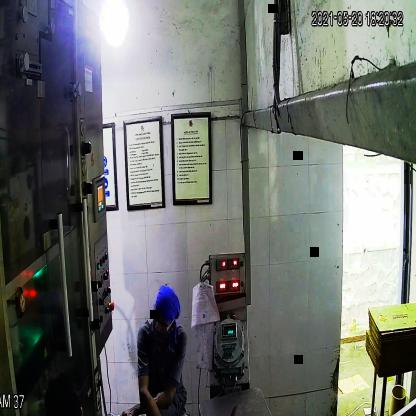goggles: (150, 304, 177, 334)
